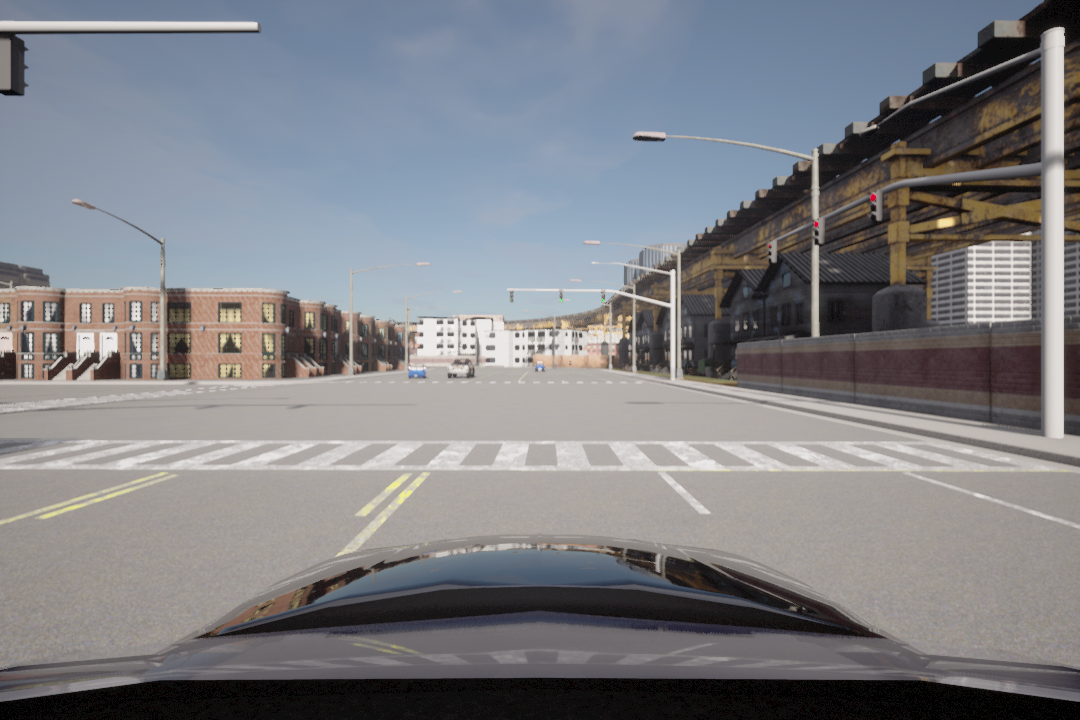TrafficLight: (866, 190, 882, 224), (810, 216, 824, 247), (766, 239, 777, 264), (598, 287, 606, 304), (557, 288, 564, 302), (509, 286, 514, 304)
walkside: (3, 434, 1061, 475)
